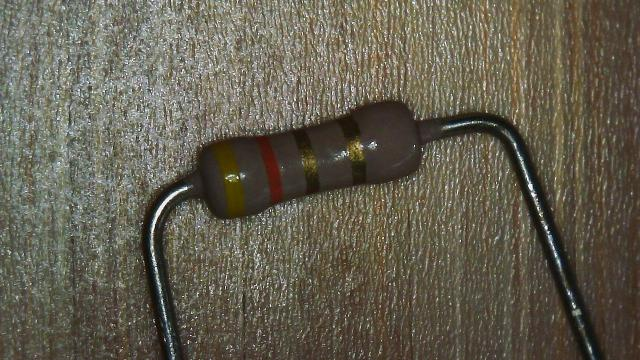gold: (339, 114, 366, 184), (294, 129, 320, 194)
orange: (255, 136, 282, 204)
resistor: (173, 90, 427, 240)
yellow: (213, 141, 244, 218)
